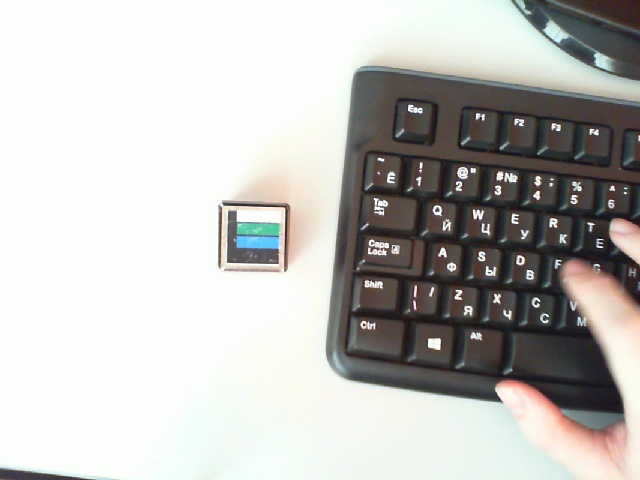square: (225, 209, 281, 266)
